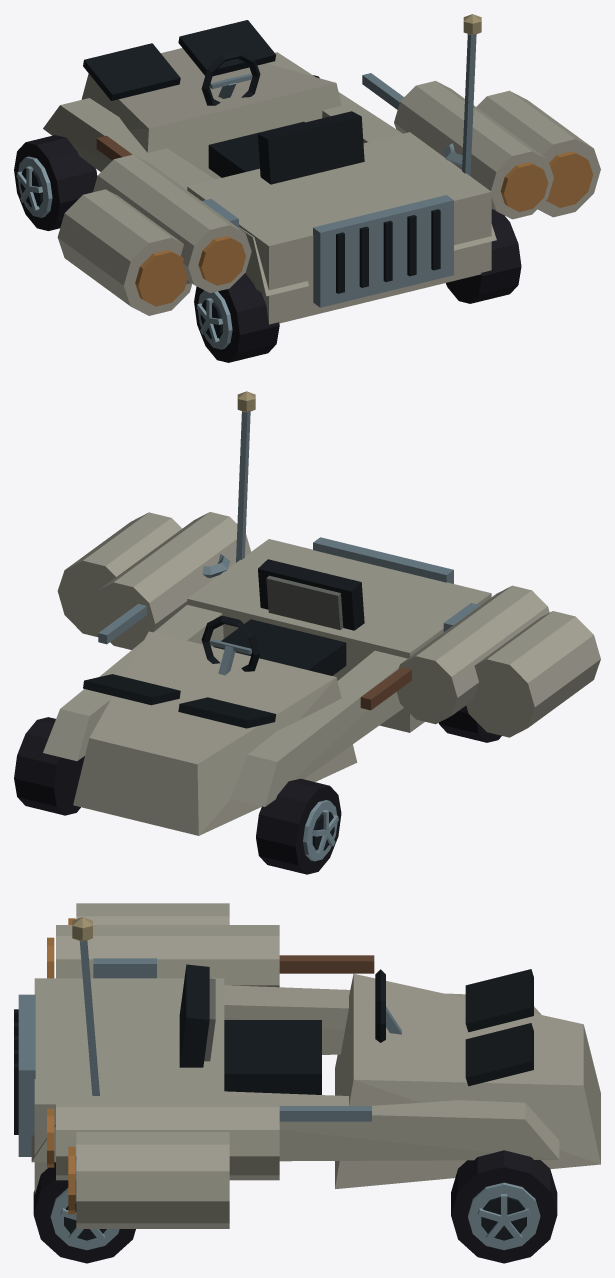
The model's file is kart.glb.
The picture shows the model from 3 angles, top to bottom: view 1: azimuth 30°, elevation 25°; view 2: azimuth 150°, elevation 25°; view 3: azimuth 270°, elevation 25°; orthographic projection. The views are drawn at different scales.
Parts seen in each view (by area): view 1: identity-dropship-dropship-armored-cargo-fuselage, identity-dropship-motif-engine-pods, identity-dropship-driver-cockpit, wheel-front-left, wheel-rear-left, wheel-rear-right, identity-dropship-motif-tools, identity-dropship-motif-antenna; view 2: identity-dropship-dropship-armored-cargo-fuselage, identity-dropship-motif-engine-pods, identity-dropship-driver-cockpit, wheel-front-left, wheel-front-right, identity-dropship-motif-tools, identity-dropship-motif-antenna, wheel-rear-left; view 3: identity-dropship-dropship-armored-cargo-fuselage, identity-dropship-motif-engine-pods, identity-dropship-driver-cockpit, wheel-front-right, identity-dropship-motif-tools, wheel-rear-right, identity-dropship-motif-antenna.
Boxes of the visible parts, bbox=[...] form: identity-dropship-dropship-armored-cargo-fuselage: bbox=[43, 20, 600, 324]; identity-dropship-motif-engine-pods: bbox=[93, 81, 553, 293]; identity-dropship-driver-cockpit: bbox=[201, 50, 364, 184]; wheel-front-left: bbox=[14, 135, 97, 230]; wheel-rear-left: bbox=[194, 273, 279, 362]; wheel-rear-right: bbox=[446, 209, 521, 303]; identity-dropship-motif-tools: bbox=[96, 73, 462, 227]; identity-dropship-motif-antenna: bbox=[462, 14, 481, 175]; identity-dropship-dropship-armored-cargo-fuselage: bbox=[43, 512, 600, 835]; identity-dropship-motif-engine-pods: bbox=[91, 512, 549, 724]; identity-dropship-driver-cockpit: bbox=[201, 559, 364, 675]; wheel-front-left: bbox=[256, 778, 341, 874]; wheel-front-right: bbox=[14, 717, 84, 815]; identity-dropship-motif-tools: bbox=[98, 554, 480, 710]; identity-dropship-motif-antenna: bbox=[236, 391, 255, 562]; wheel-rear-left: bbox=[438, 705, 501, 742]; identity-dropship-dropship-armored-cargo-fuselage: bbox=[14, 903, 600, 1228]; identity-dropship-motif-engine-pods: bbox=[47, 925, 279, 1180]; identity-dropship-driver-cockpit: bbox=[179, 964, 401, 1094]; wheel-front-right: bbox=[451, 1150, 557, 1263]; identity-dropship-motif-tools: bbox=[93, 955, 374, 1121]; wheel-rear-right: bbox=[33, 1162, 135, 1263]; identity-dropship-motif-antenna: bbox=[72, 917, 99, 1095].
Size of the model in its own units: 3 by 1.72 by 2.76.
